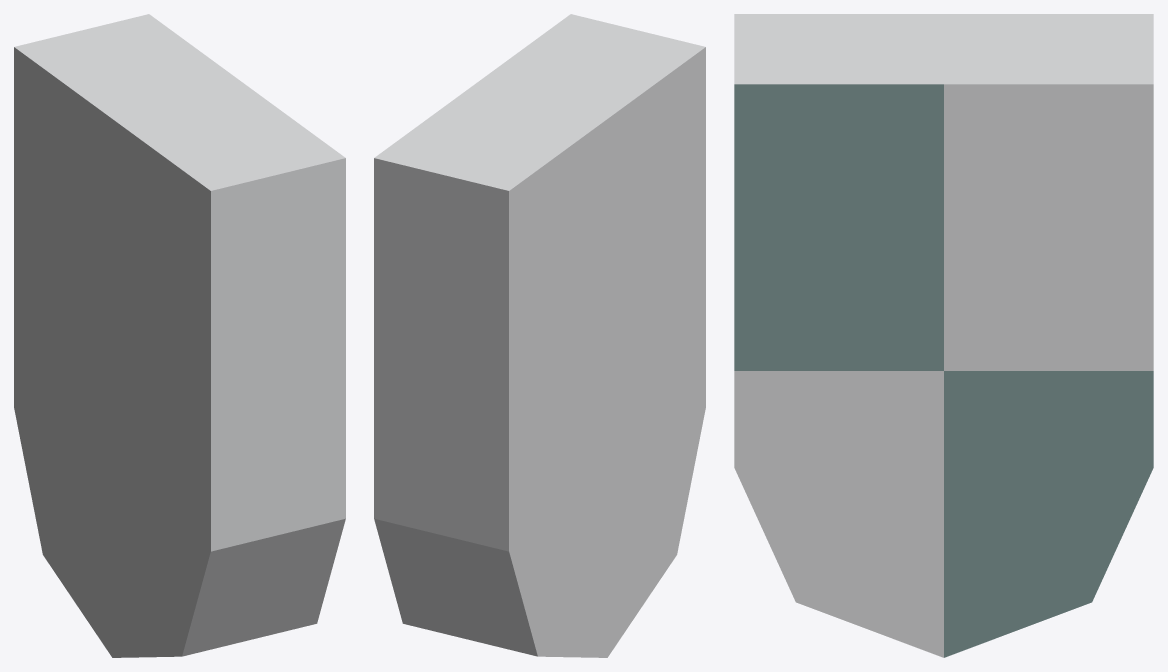
The model's file is Shield_Green_01.glb.
The picture shows the model from 3 angles, left to right: view 1: azimuth 30°, elevation 25°; view 2: azimuth 150°, elevation 25°; view 3: azimuth 270°, elevation 25°; orthographic projection. The views are drawn at different scales.
Visible parts, largest first — view 1: Mesh1 Shield_Green Model; view 2: Mesh1 Shield_Green Model; view 3: Mesh1 Shield_Green Model.
Boxes of the visible parts, box(x1,y1,x2,y2) form: Mesh1 Shield_Green Model: box(14, 14, 345, 657); Mesh1 Shield_Green Model: box(374, 14, 705, 657); Mesh1 Shield_Green Model: box(734, 14, 1153, 657).
Size of the model in its own units: 0.2 by 0.7625 by 0.5047.
